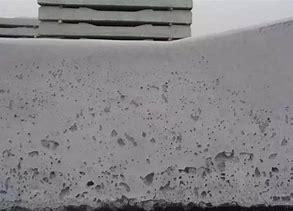Spalling: (1, 54, 293, 211)
